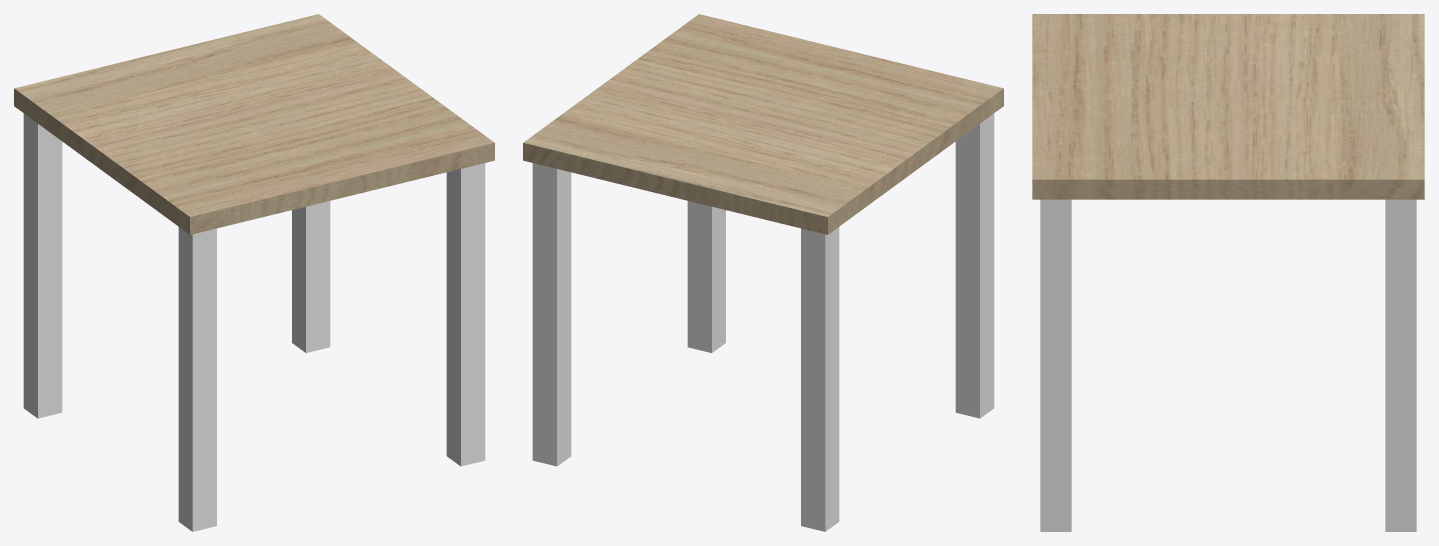
The picture shows the model from 3 angles, left to right: view 1: azimuth 30°, elevation 25°; view 2: azimuth 150°, elevation 25°; view 3: azimuth 270°, elevation 25°; orthographic projection. The views are drawn at different scales.
Parts seen in each view (by area): view 1: Desktop, Leg_2, Leg_1, Leg_3, Leg_4; view 2: Desktop, Leg_4, Leg_3, Leg_1, Leg_2; view 3: Desktop, Leg_2, Leg_4.
Part boxes in pixels (x1=…): Desktop: x1=14, y1=14, x2=494, y2=234; Leg_2: x1=446, y1=163, x2=485, y2=466; Leg_1: x1=178, y1=227, x2=216, y2=531; Leg_3: x1=23, y1=113, x2=62, y2=418; Leg_4: x1=292, y1=201, x2=330, y2=352; Desktop: x1=523, y1=14, x2=1003, y2=234; Leg_4: x1=532, y1=163, x2=571, y2=466; Leg_3: x1=801, y1=227, x2=839, y2=531; Leg_1: x1=955, y1=113, x2=994, y2=418; Leg_2: x1=687, y1=201, x2=725, y2=352; Desktop: x1=1032, y1=14, x2=1424, y2=199; Leg_2: x1=1040, y1=199, x2=1071, y2=531; Leg_4: x1=1385, y1=199, x2=1416, y2=531.
Size of the model in its own units: 0.5 by 0.5 by 0.5.
2 materials, 1 textured.
